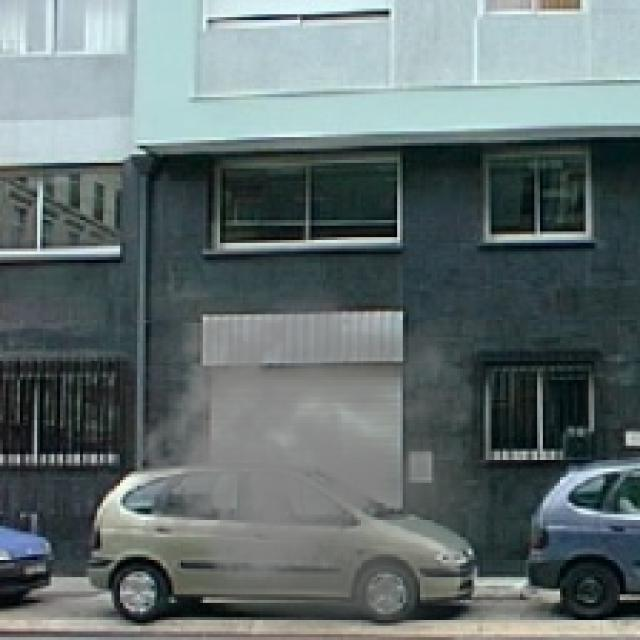Smoke: (128, 282, 486, 638)
